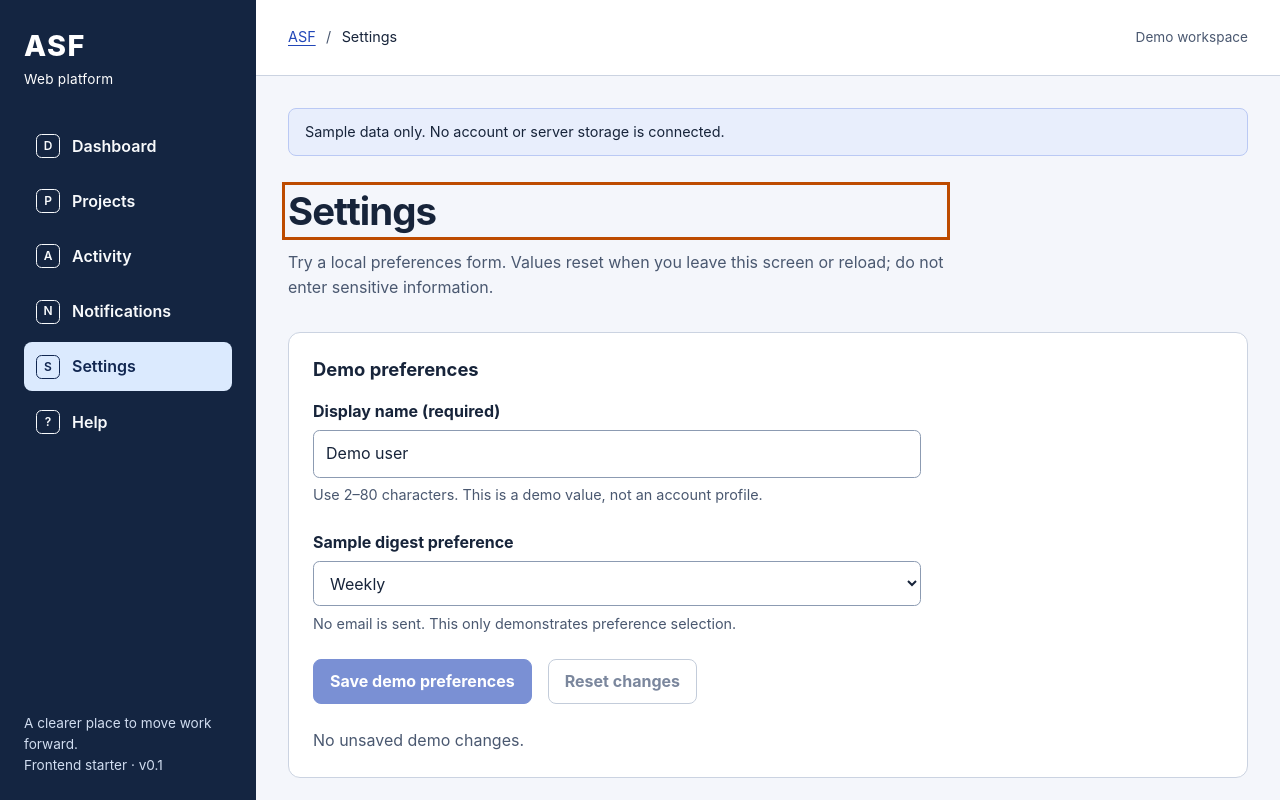
Test: validates settings and states the scope of a demo save
The width and height of the screenshot is (1280, 800).
Clear the field labelled "Display name (required)" at [617, 454], box top-left (313, 430), bottom-right (921, 478)
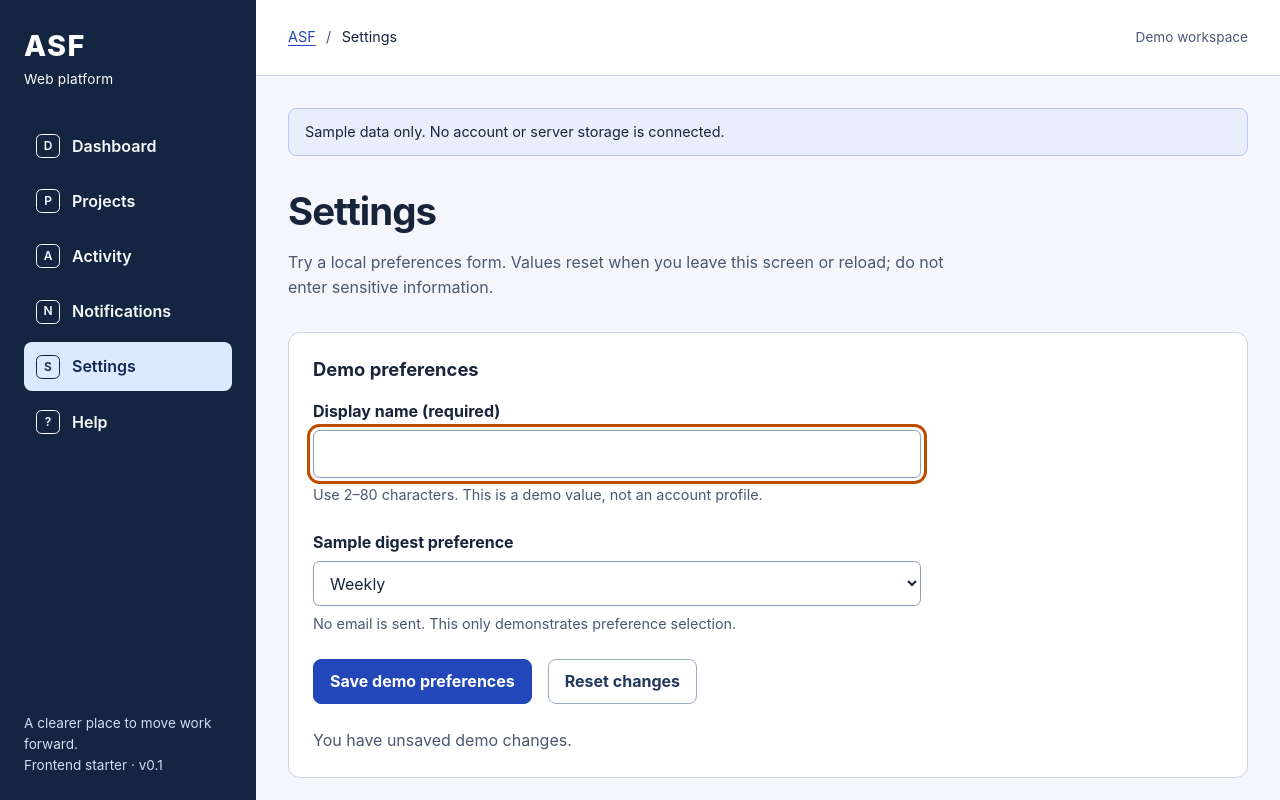
Click the button "Save demo preferences".
click(422, 682)  # box top-left (313, 659), bottom-right (532, 704)
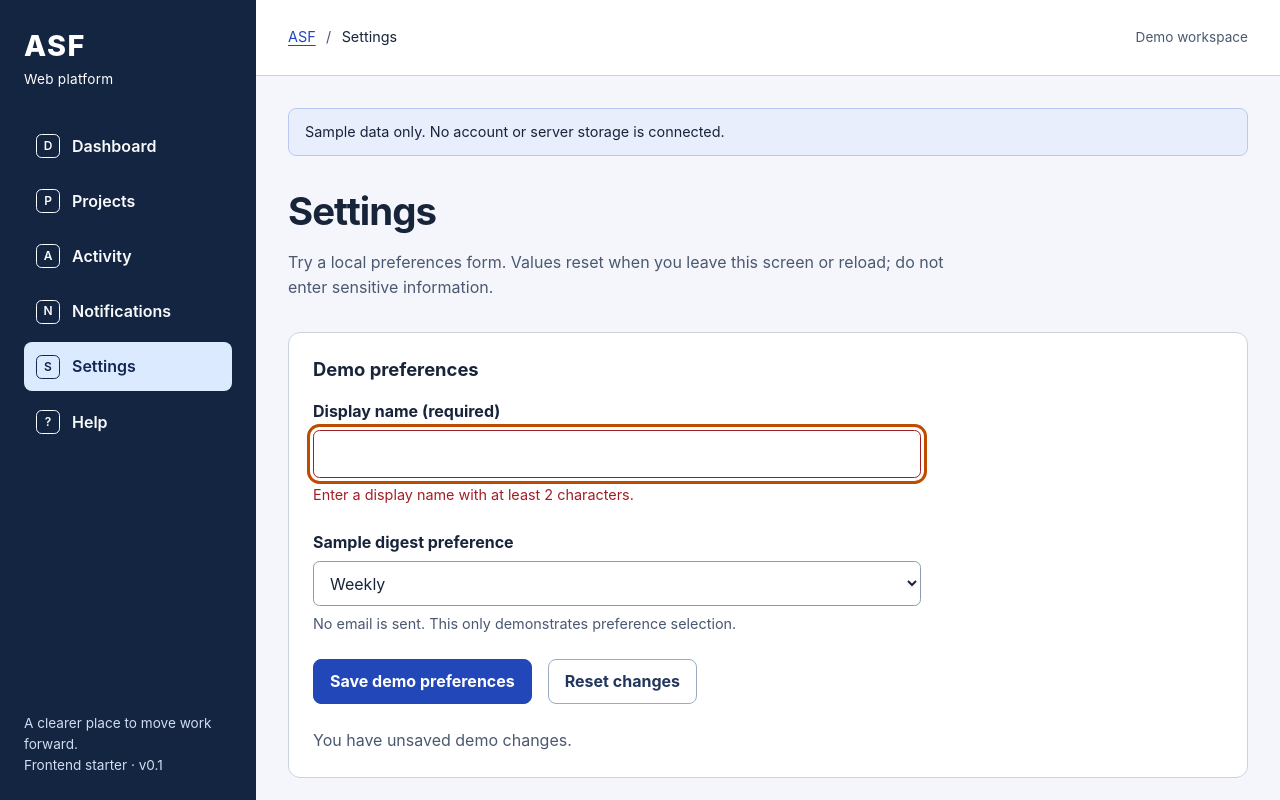
Expected: the message "Enter a display name with at least 2 characters." is shown, top-left (313, 486), bottom-right (634, 503)
Type "Sample user" into the field labelled "Display name (required)".
click(617, 454); type("Sample user")  # box top-left (313, 430), bottom-right (921, 478)
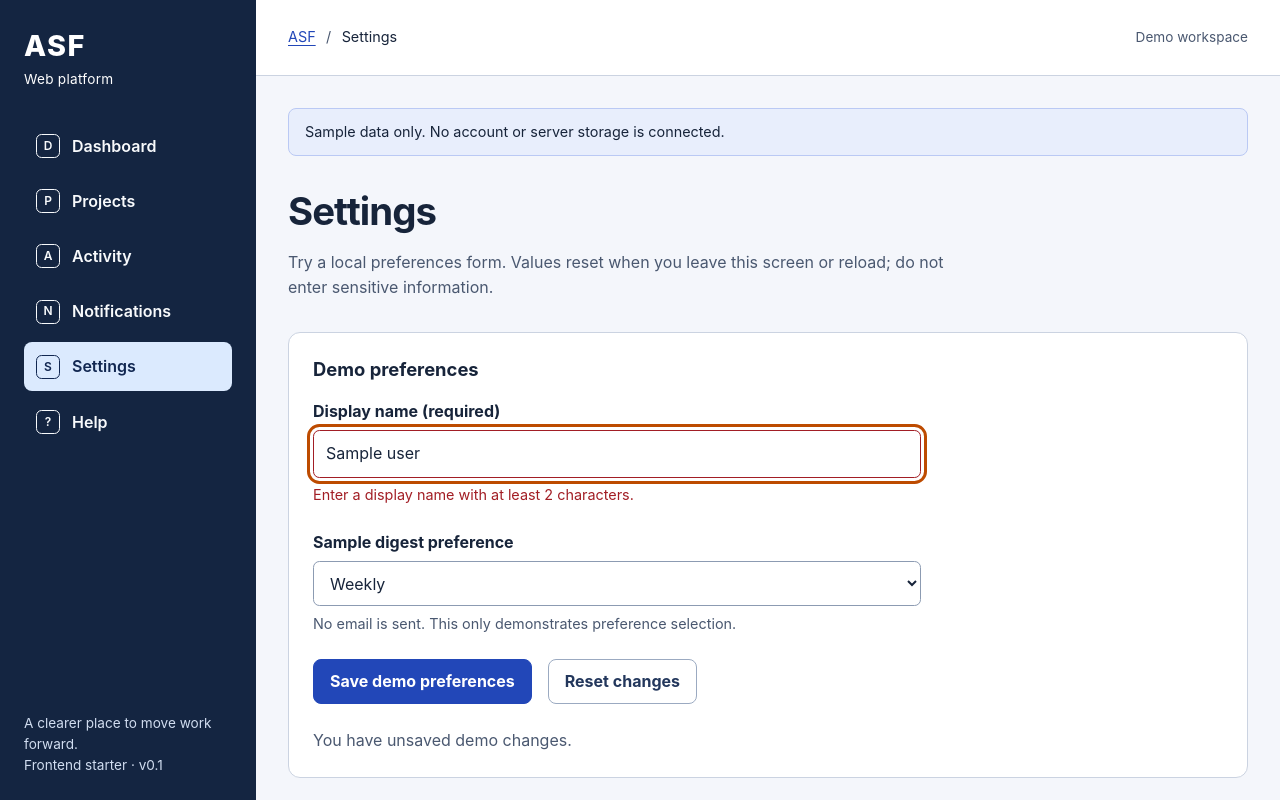
Click the button "Save demo preferences".
click(422, 682)  # box top-left (313, 659), bottom-right (532, 704)
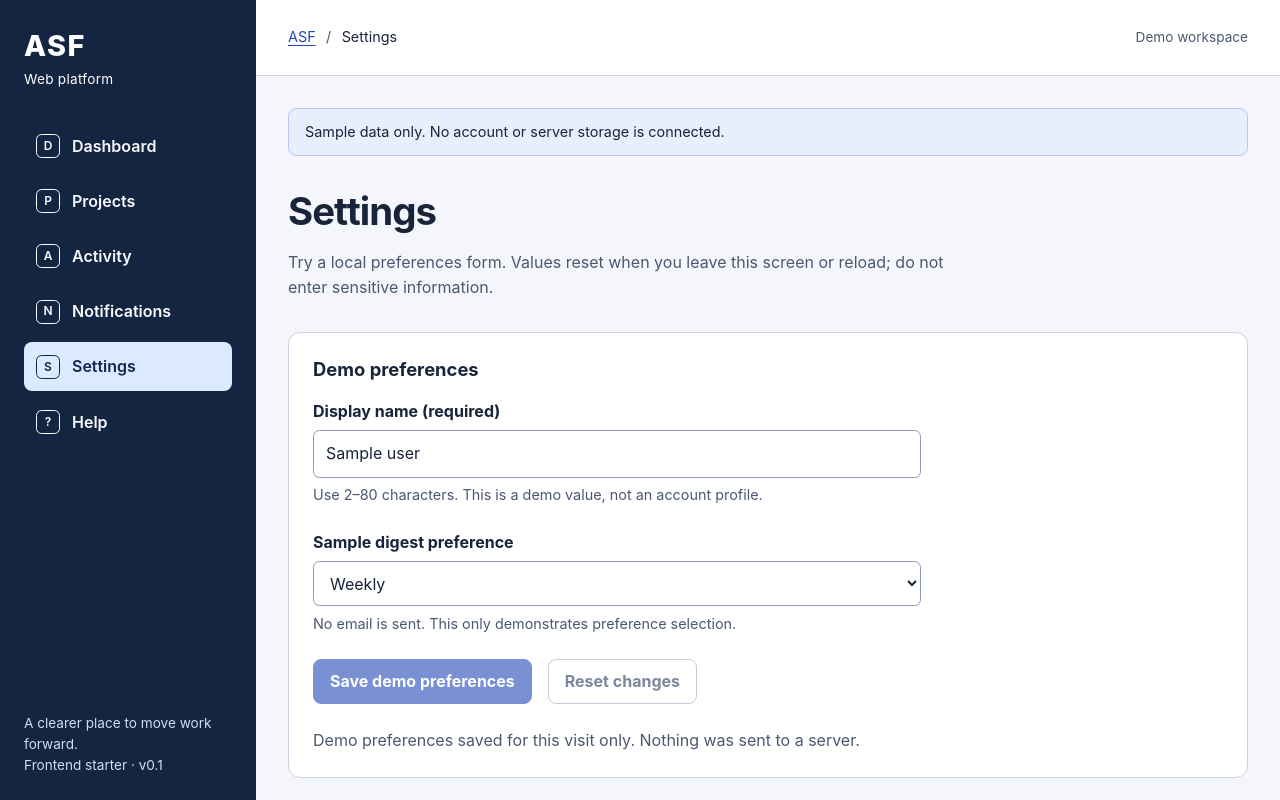
Expected: the message shows "Nothing was sent to a server", top-left (313, 730), bottom-right (860, 750)
Expected: the button "Save demo preferences" is disabled, top-left (313, 659), bottom-right (532, 704)
